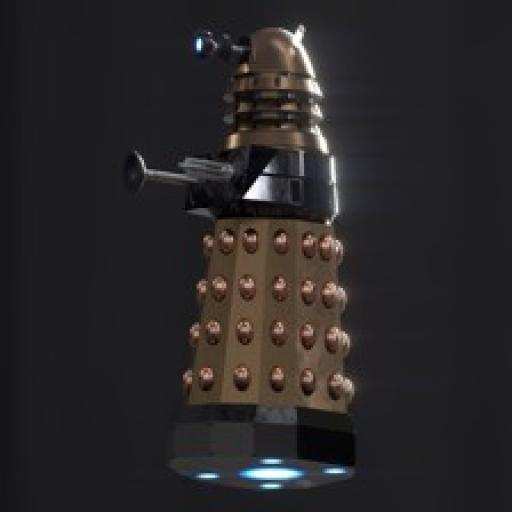dalek: (119, 21, 362, 494)
